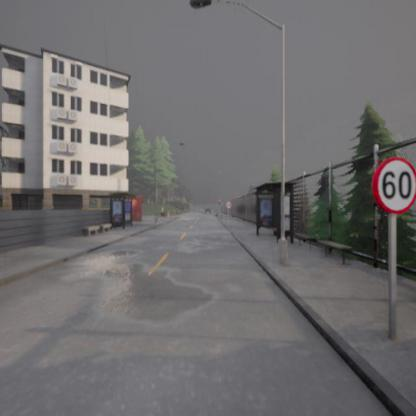traffic_sign_60: (372, 156, 415, 215)
